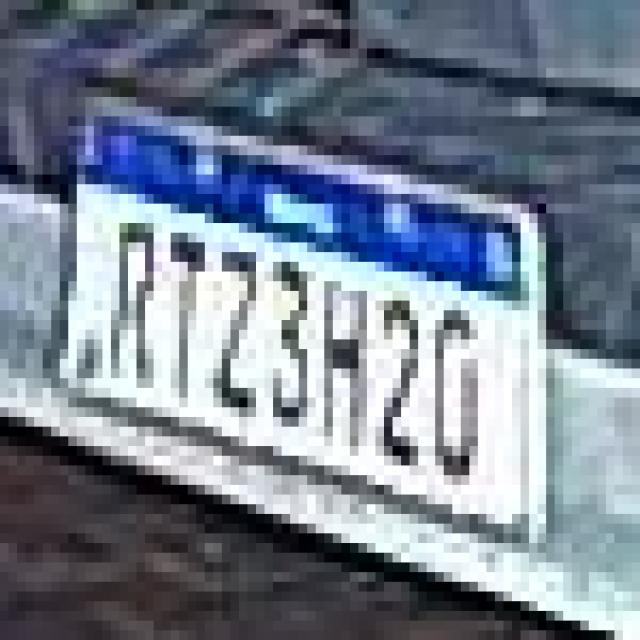0: (428, 289, 512, 492)
3: (274, 256, 318, 447)
H: (323, 280, 378, 458)
R: (105, 203, 164, 388)
T: (168, 223, 210, 429)
Z: (214, 235, 269, 421)
